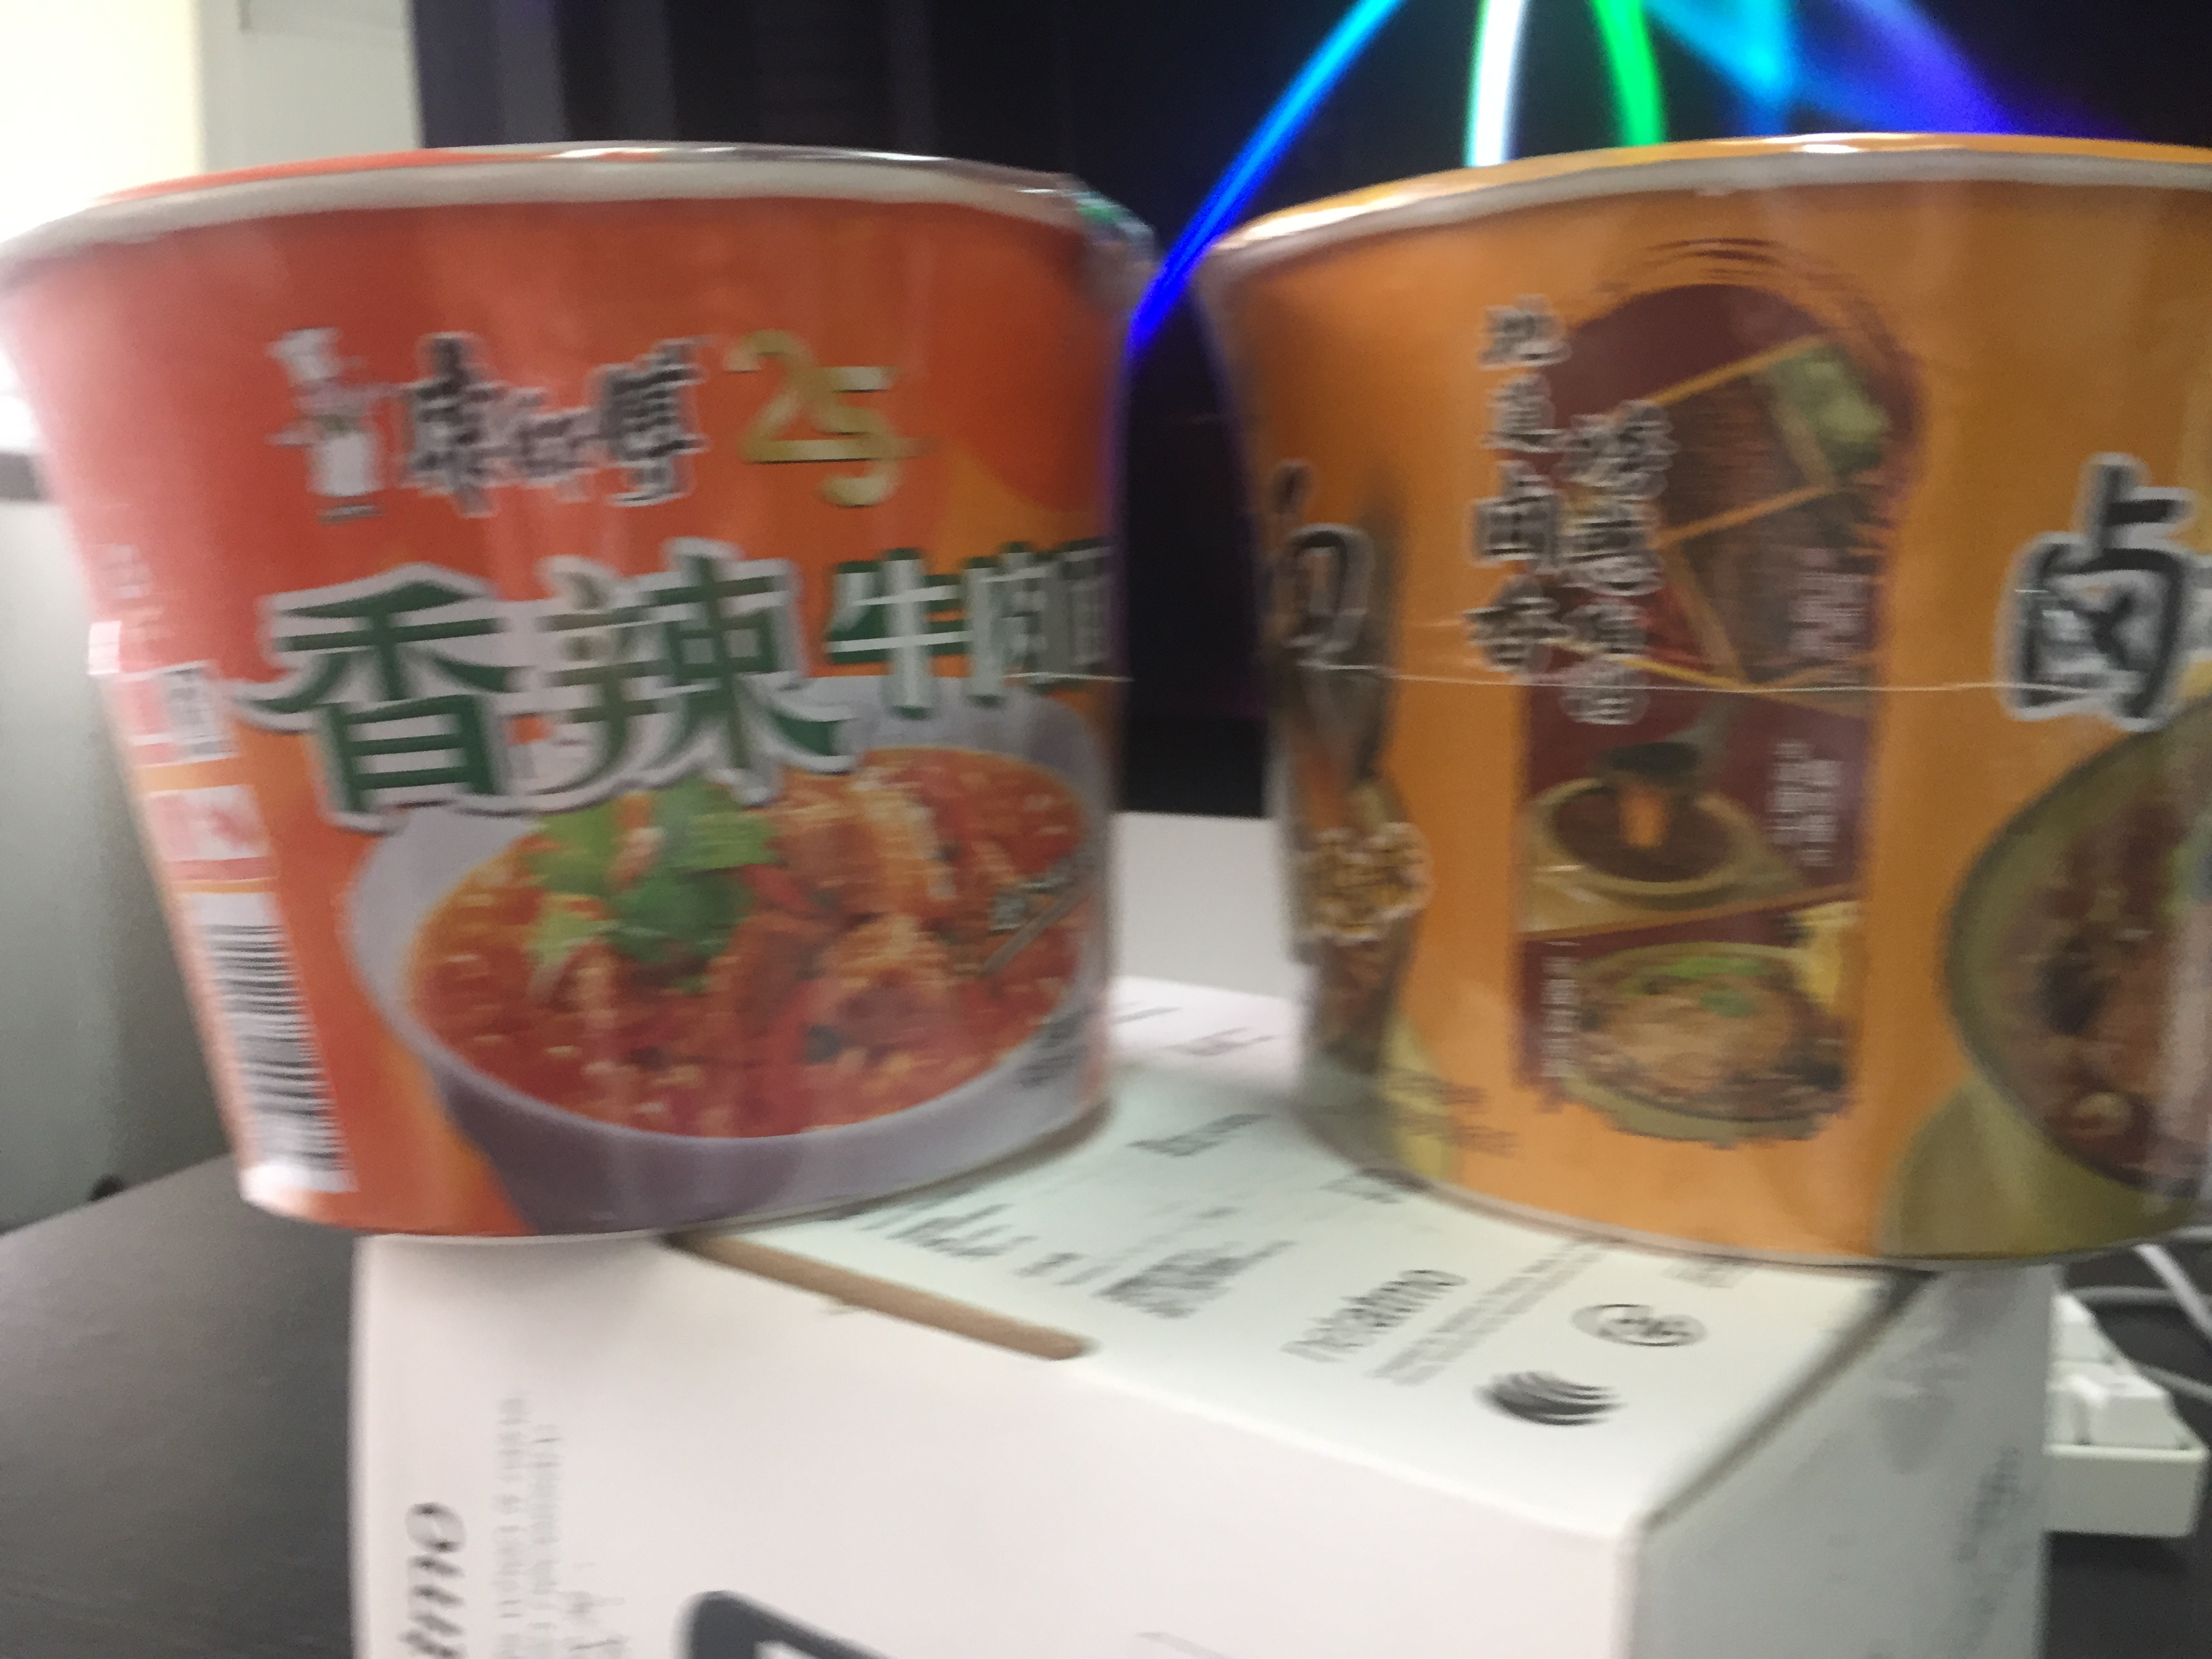luxiang: (1183, 131, 2212, 1274)
xiangla: (0, 139, 1170, 1251)
